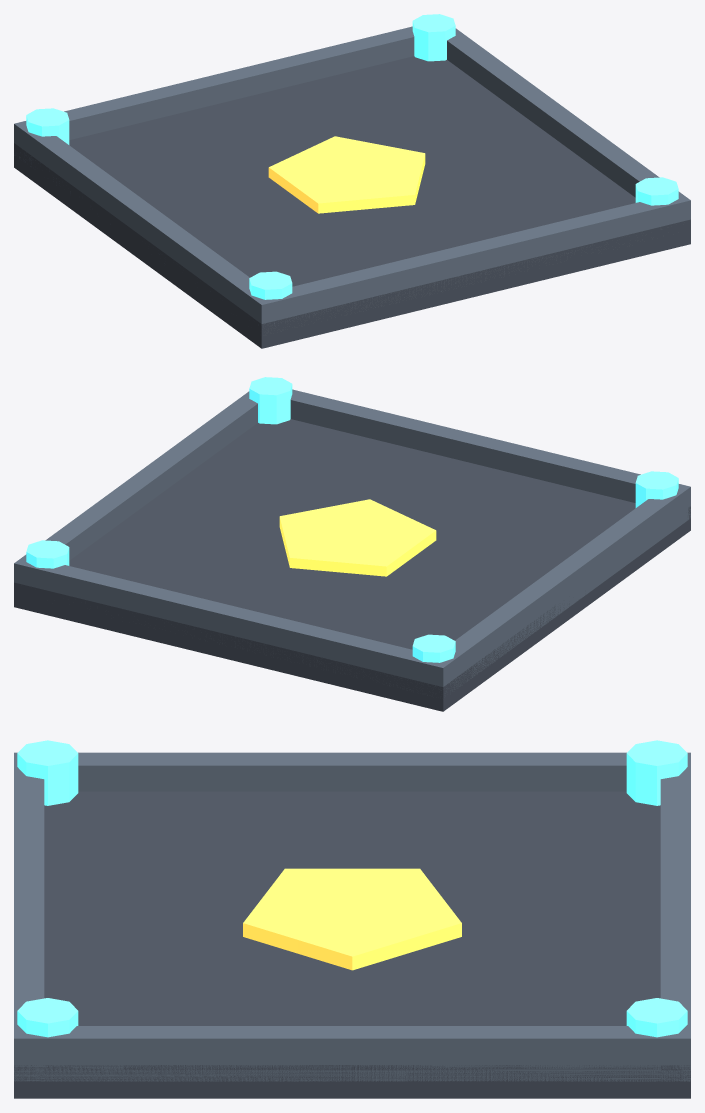
Rendered from AXM-TERRAIN-TILE-001_LOD2.glb.
3 renders of one model, top to bottom at view 1: azimuth 30°, elevation 25°; view 2: azimuth 150°, elevation 25°; view 3: azimuth 270°, elevation 25°, orthographic. The views are drawn at different scales.
Visible parts, largest first — view 1: platform, edge_x__l00, edge_x__l01, center_plate, edge_y__l00, edge_y__l01, corner_node__g03, corner_node__g01, corner_node__g02, corner_node__g00; view 2: platform, edge_x__l01, edge_y__l00, edge_x__l00, center_plate, edge_y__l01, corner_node__g02, corner_node__g00, corner_node__g03, corner_node__g01; view 3: platform, edge_y__l01, edge_y__l00, center_plate, edge_x__l00, edge_x__l01, corner_node__g00, corner_node__g01, corner_node__g02, corner_node__g03.
Part boxes in pixels (bbox=[...]): platform: bbox=[14, 56, 690, 348]; edge_x__l00: bbox=[250, 192, 690, 331]; edge_x__l01: bbox=[14, 26, 414, 160]; center_plate: bbox=[268, 136, 425, 213]; edge_y__l00: bbox=[25, 131, 253, 315]; edge_y__l01: bbox=[447, 28, 679, 197]; corner_node__g03: bbox=[412, 14, 455, 61]; corner_node__g01: bbox=[26, 108, 69, 144]; corner_node__g02: bbox=[635, 177, 678, 205]; corner_node__g00: bbox=[249, 271, 292, 299]; platform: bbox=[14, 419, 690, 711]; edge_x__l01: bbox=[14, 555, 454, 695]; edge_y__l00: bbox=[451, 494, 679, 689]; edge_x__l00: bbox=[290, 389, 690, 525]; center_plate: bbox=[279, 499, 436, 576]; edge_y__l01: bbox=[25, 391, 257, 560]; corner_node__g02: bbox=[249, 377, 292, 424]; corner_node__g00: bbox=[635, 471, 678, 507]; corner_node__g03: bbox=[26, 540, 69, 568]; corner_node__g01: bbox=[412, 634, 455, 662]; platform: bbox=[14, 791, 690, 1098]; edge_y__l01: bbox=[44, 1026, 660, 1081]; edge_y__l00: bbox=[78, 752, 626, 791]; center_plate: bbox=[243, 868, 461, 970]; edge_x__l00: bbox=[14, 752, 44, 1081]; edge_x__l01: bbox=[660, 752, 690, 1081]; corner_node__g00: bbox=[17, 740, 78, 805]; corner_node__g01: bbox=[626, 740, 687, 805]; corner_node__g02: bbox=[17, 998, 78, 1037]; corner_node__g03: bbox=[626, 998, 687, 1037].
Size of the model in its own units: 4 by 0.48 by 4.
